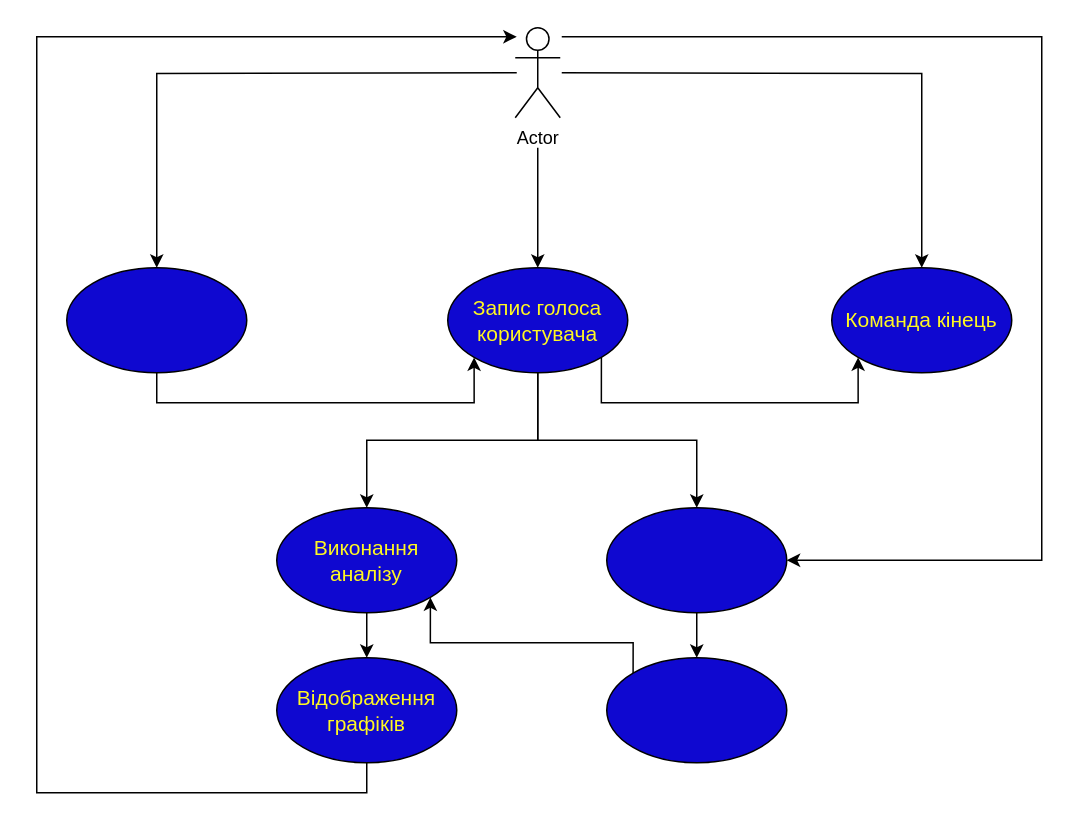
The diagram is 1080 pixels wide and 831 high, and some of its shapes have lost their labels. Each missing label, with the box of its shape:
Додання даних у базу даних: (605, 656, 787, 763)
Команда старт: (65, 266, 247, 373)
Проведення опитування: (605, 506, 787, 613)
